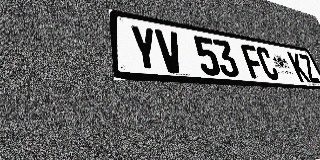3: (212, 39, 241, 78)
5: (193, 35, 223, 76)
C: (255, 46, 281, 80)
F: (240, 43, 267, 79)
K: (287, 52, 311, 83)
V: (155, 29, 186, 74)
Y: (129, 24, 161, 72)
Z: (298, 54, 320, 83)
